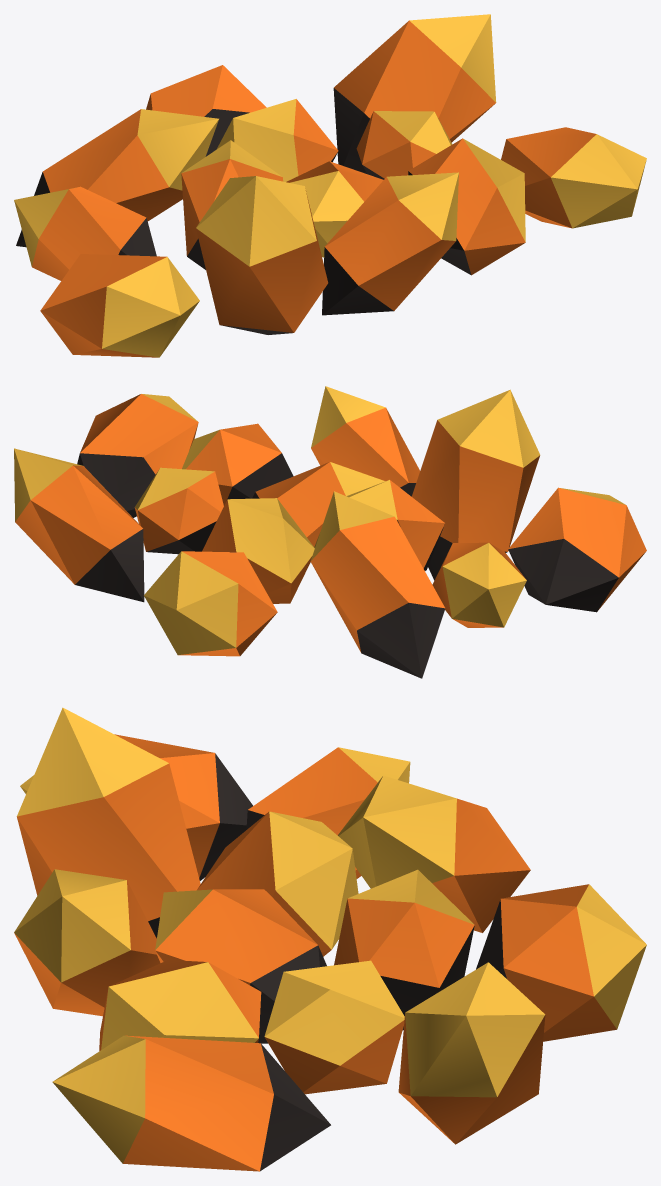
The model's file is brasas_lareira_natal_pacote.glb.
3 renders of one model, top to bottom at view 1: azimuth 30°, elevation 25°; view 2: azimuth 150°, elevation 25°; view 3: azimuth 270°, elevation 25°, orthographic. The views are drawn at different scales.
Visible parts, largest first — view 1: brasas_lareira_natal_pacote; view 2: brasas_lareira_natal_pacote; view 3: brasas_lareira_natal_pacote.
Boxes of the visible parts, left/top/right/bottom form: brasas_lareira_natal_pacote: left=14, top=14, right=646, bottom=357; brasas_lareira_natal_pacote: left=14, top=386, right=646, bottom=678; brasas_lareira_natal_pacote: left=14, top=707, right=646, bottom=1171.
Bounding box in the file's own units: 0.5391 × 0.1716 × 0.3836.
Materials: 1 (1 with a texture image).
